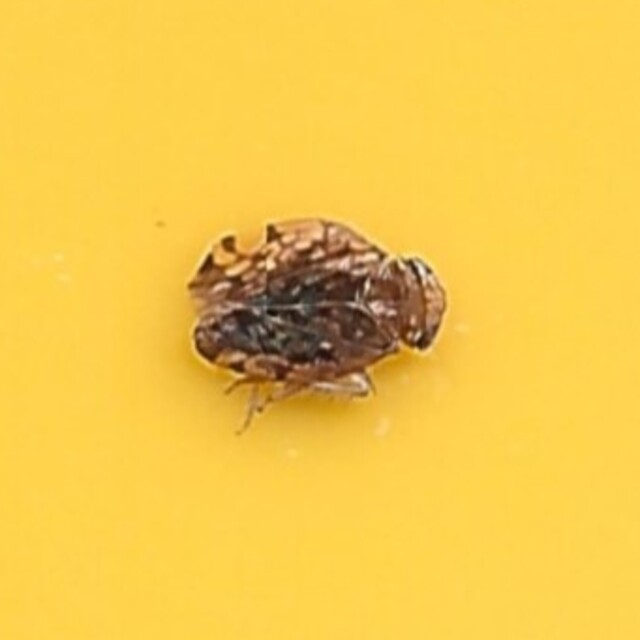Hemiptera: (188, 215, 452, 425)
